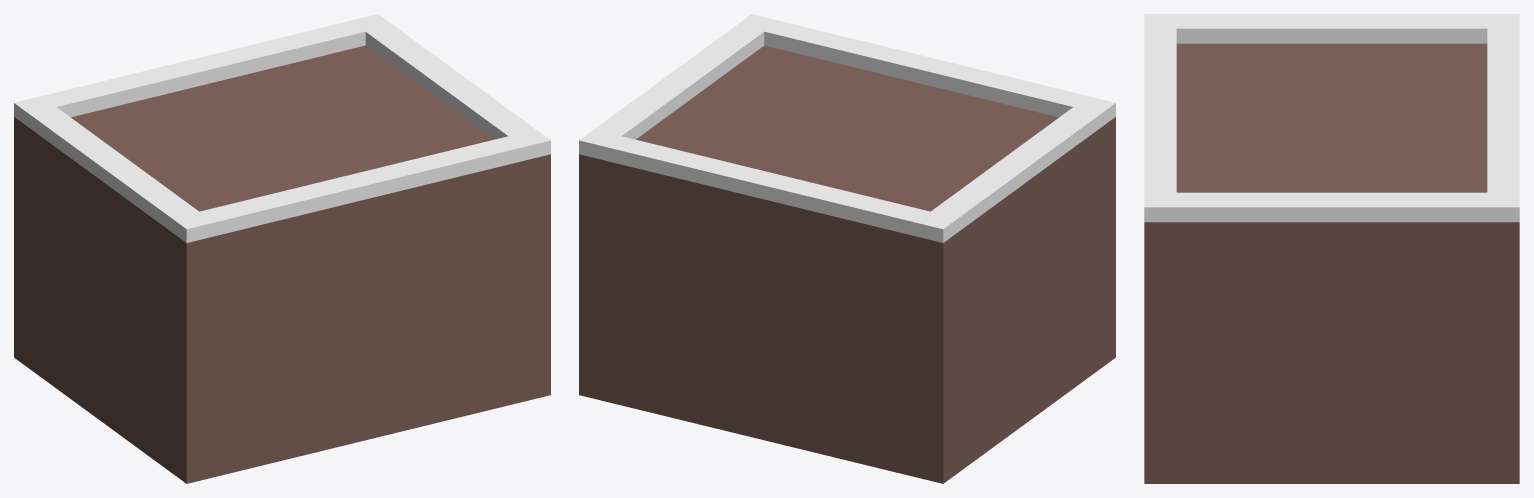
The model's file is roofprop.fbx.
3 views of the same model, side by side, from view 1: azimuth 30°, elevation 25°; view 2: azimuth 150°, elevation 25°; view 3: azimuth 270°, elevation 25° (orthographic). The views are drawn at different scales.
Visible parts, largest first — view 1: roofprop; view 2: roofprop; view 3: roofprop.
Boxes of the visible parts, x1,y1,x2,y2 form: roofprop: [14, 14, 550, 483]; roofprop: [579, 14, 1115, 483]; roofprop: [1144, 14, 1519, 483].
Bounding box in the file's own units: 3.16 × 2.11 × 2.6.
